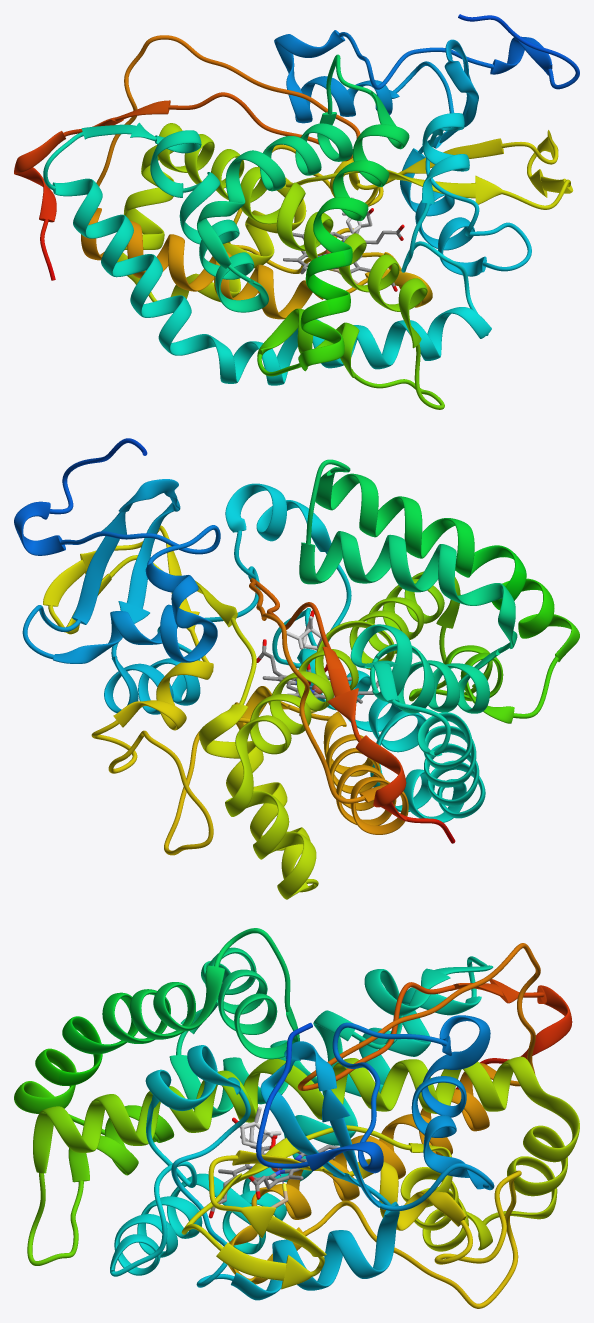
File: model_of_cytochrome_p450__oxygen__drug_complex.glb
3 views of the same model, one above another, from view 1: azimuth 30°, elevation 25°; view 2: azimuth 150°, elevation 25°; view 3: azimuth 270°, elevation 25° (orthographic). The views are drawn at different scales.
Visible parts, largest first — view 1: matsym_7, matsym_11, matsym_9, matsym_8, matsym_6, matsym_14, matsym_13, matsym_10, matsym_1, matsym_5, matsym_3, matsym_21 (+13 smaller); view 2: matsym_11, matsym_9, matsym_10, matsym_15, matsym_1, matsym_2, matsym_8, matsym_16, matsym_3, matsym_14, matsym_7, matsym_6 (+12 smaller); view 3: matsym_13, matsym_14, matsym_3, matsym_11, matsym_15, matsym_2, matsym_10, matsym_17, matsym_1, matsym_8, matsym_7, matsym_4 (+13 smaller).
Part boxes in pixels (<box>): matsym_7: <box>43,132,191,343</box>; matsym_11: <box>298,160,389,371</box>; matsym_9: <box>197,136,321,312</box>; matsym_8: <box>81,122,254,279</box>; matsym_6: <box>158,319,399,385</box>; matsym_14: <box>157,126,305,250</box>; matsym_13: <box>303,212,427,399</box>; matsym_10: <box>295,54,409,186</box>; matsym_1: <box>274,30,389,123</box>; matsym_5: <box>385,175,491,360</box>; matsym_3: <box>400,95,506,276</box>; matsym_21: <box>81,72,215,291</box>; matsym_11: <box>377,496,579,661</box>; matsym_9: <box>378,534,517,713</box>; matsym_10: <box>299,459,390,584</box>; matsym_15: <box>225,715,318,899</box>; matsym_1: <box>110,525,220,662</box>; matsym_2: <box>22,479,180,663</box>; matsym_8: <box>350,624,459,713</box>; matsym_16: <box>197,584,287,850</box>; matsym_3: <box>104,519,200,714</box>; matsym_14: <box>250,620,394,754</box>; matsym_7: <box>391,699,485,806</box>; matsym_6: <box>348,698,485,822</box>; matsym_13: <box>29,1070,255,1234</box>; matsym_14: <box>243,1056,522,1119</box>; matsym_3: <box>202,1104,399,1300</box>; matsym_11: <box>14,989,170,1113</box>; matsym_15: <box>422,1057,579,1250</box>; matsym_2: <box>260,1041,494,1211</box>; matsym_10: <box>145,928,299,1059</box>; matsym_17: <box>181,1155,326,1289</box>; matsym_1: <box>332,1015,490,1137</box>; matsym_8: <box>235,965,493,1104</box>; matsym_7: <box>284,956,487,1145</box>; matsym_4: <box>145,1045,250,1287</box>.
Size of the model in its own units: 58.2 by 38.5 by 54.97.
